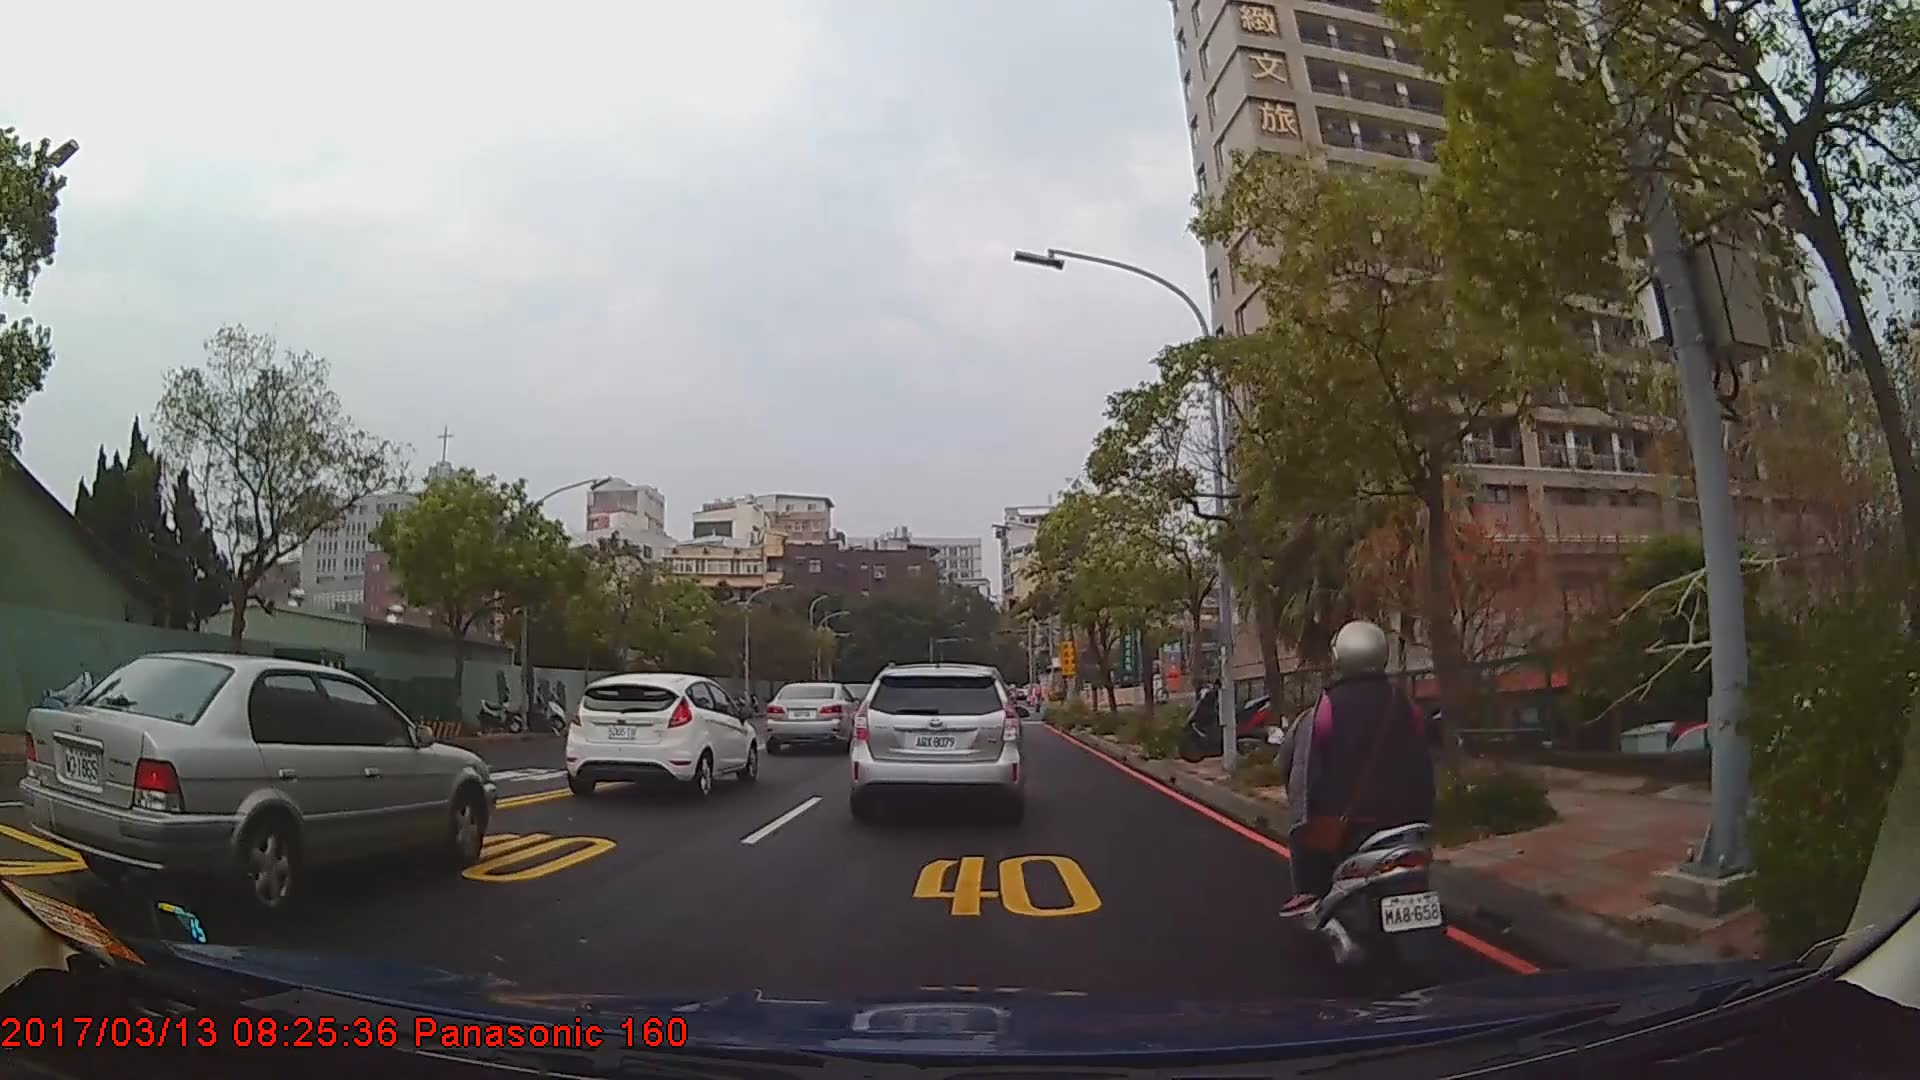rider: (1265, 617, 1440, 990)
vehicle: (20, 651, 497, 915), (847, 660, 1024, 820), (562, 672, 758, 800), (766, 681, 864, 753)
